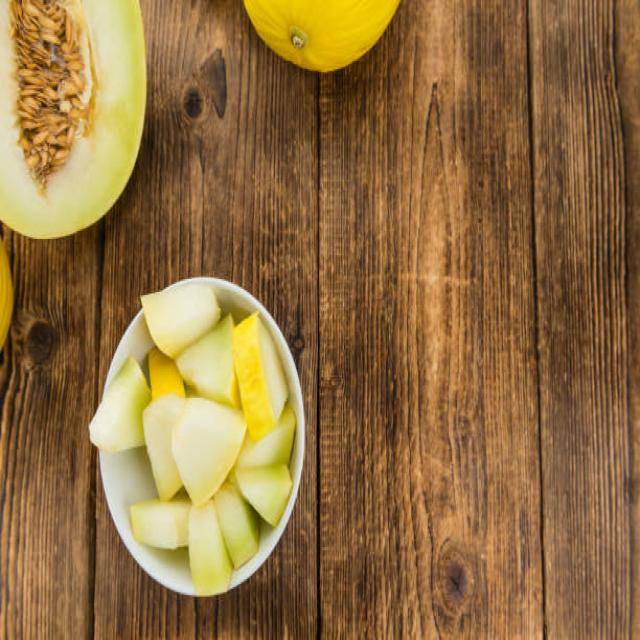Melon: (0, 0, 152, 244)
